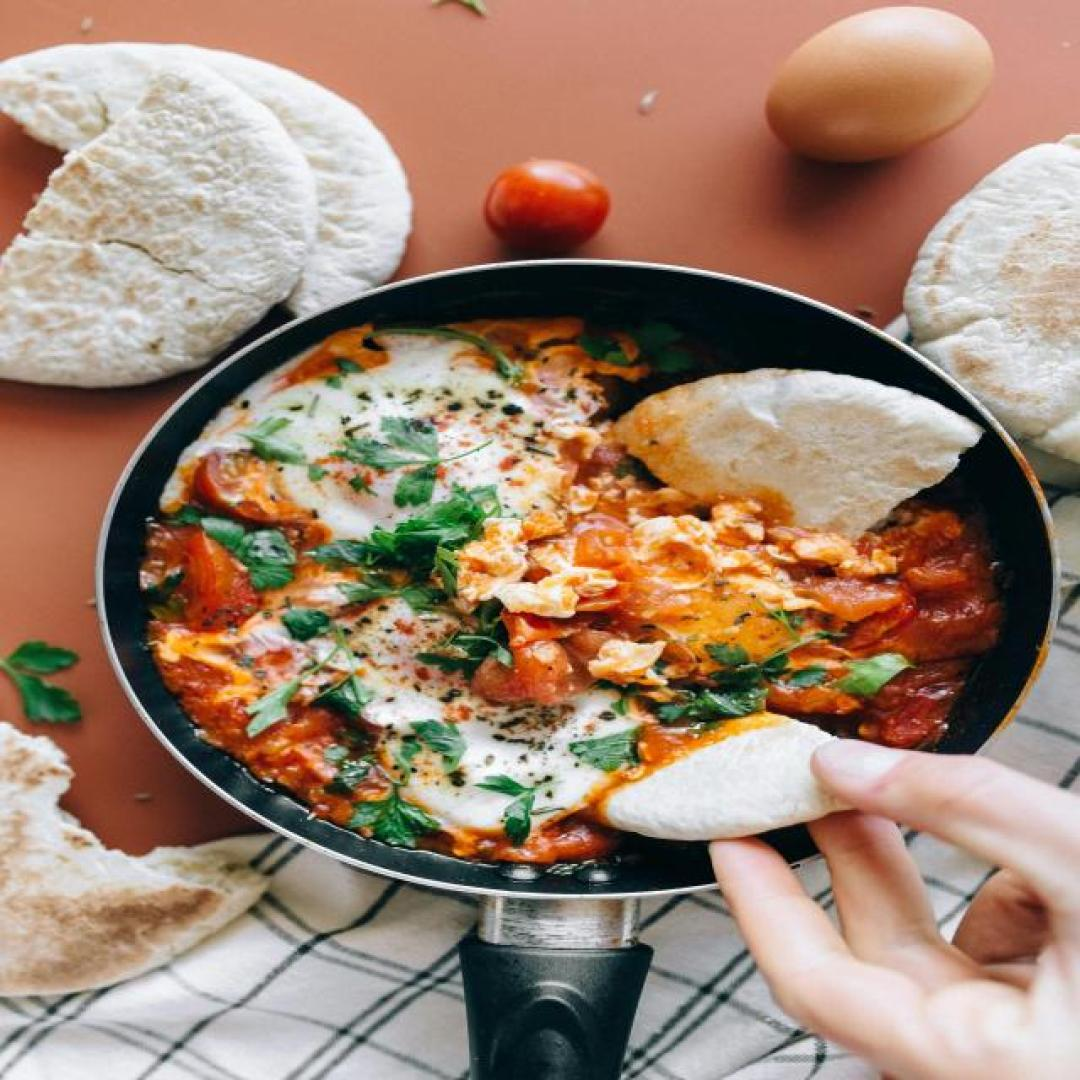matang: (482, 158, 612, 255)
